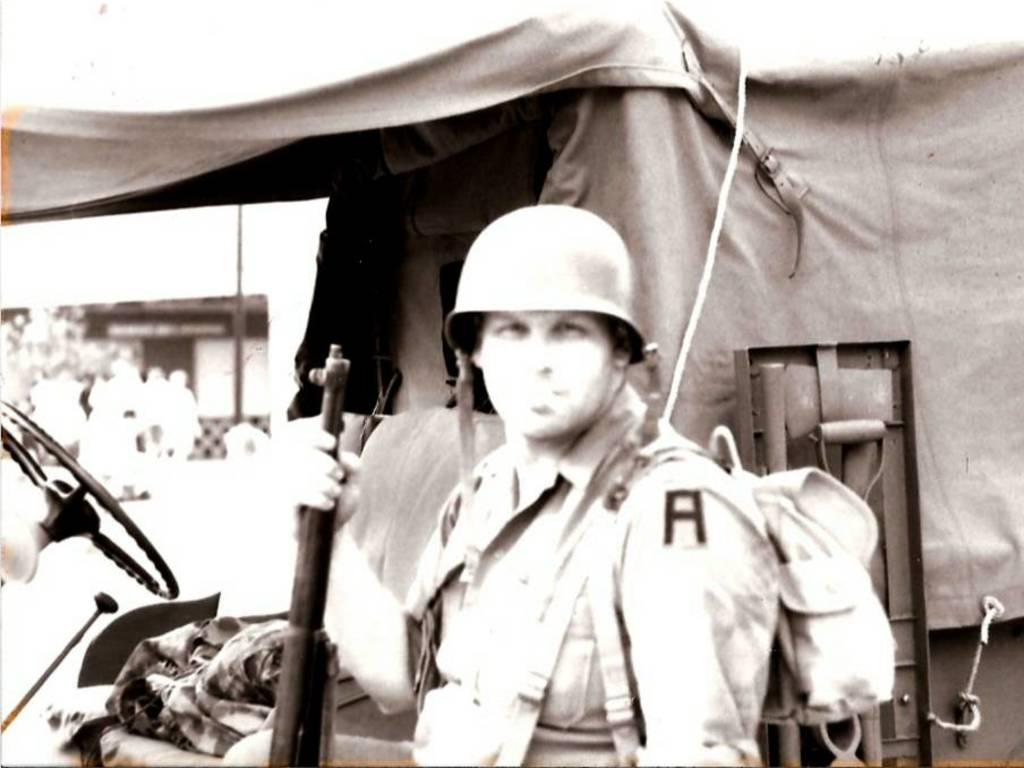Rifle: (264, 348, 336, 761)
